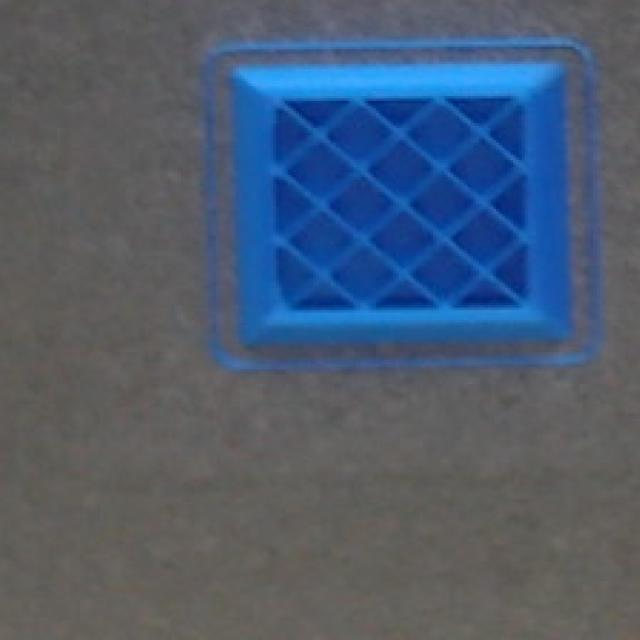noMistake: (208, 40, 596, 369)
